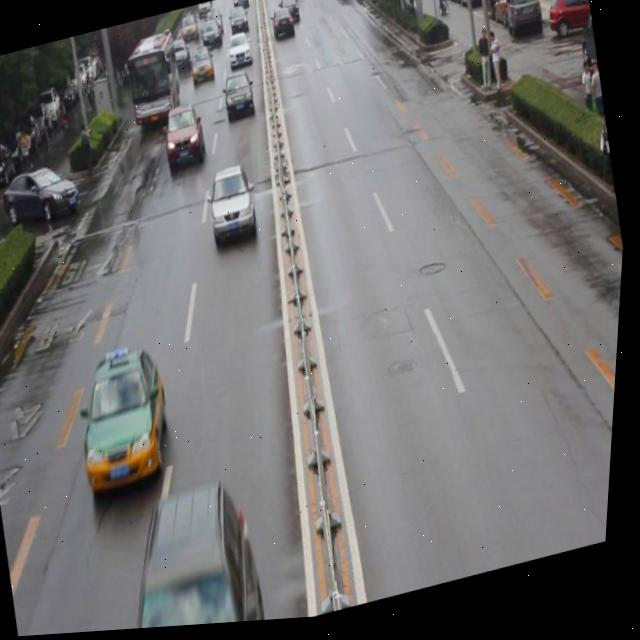car: (99, 478, 279, 633), (68, 340, 188, 499), (0, 158, 86, 235), (203, 166, 264, 247), (158, 102, 212, 174), (219, 71, 259, 123)
van: (120, 29, 190, 129)
